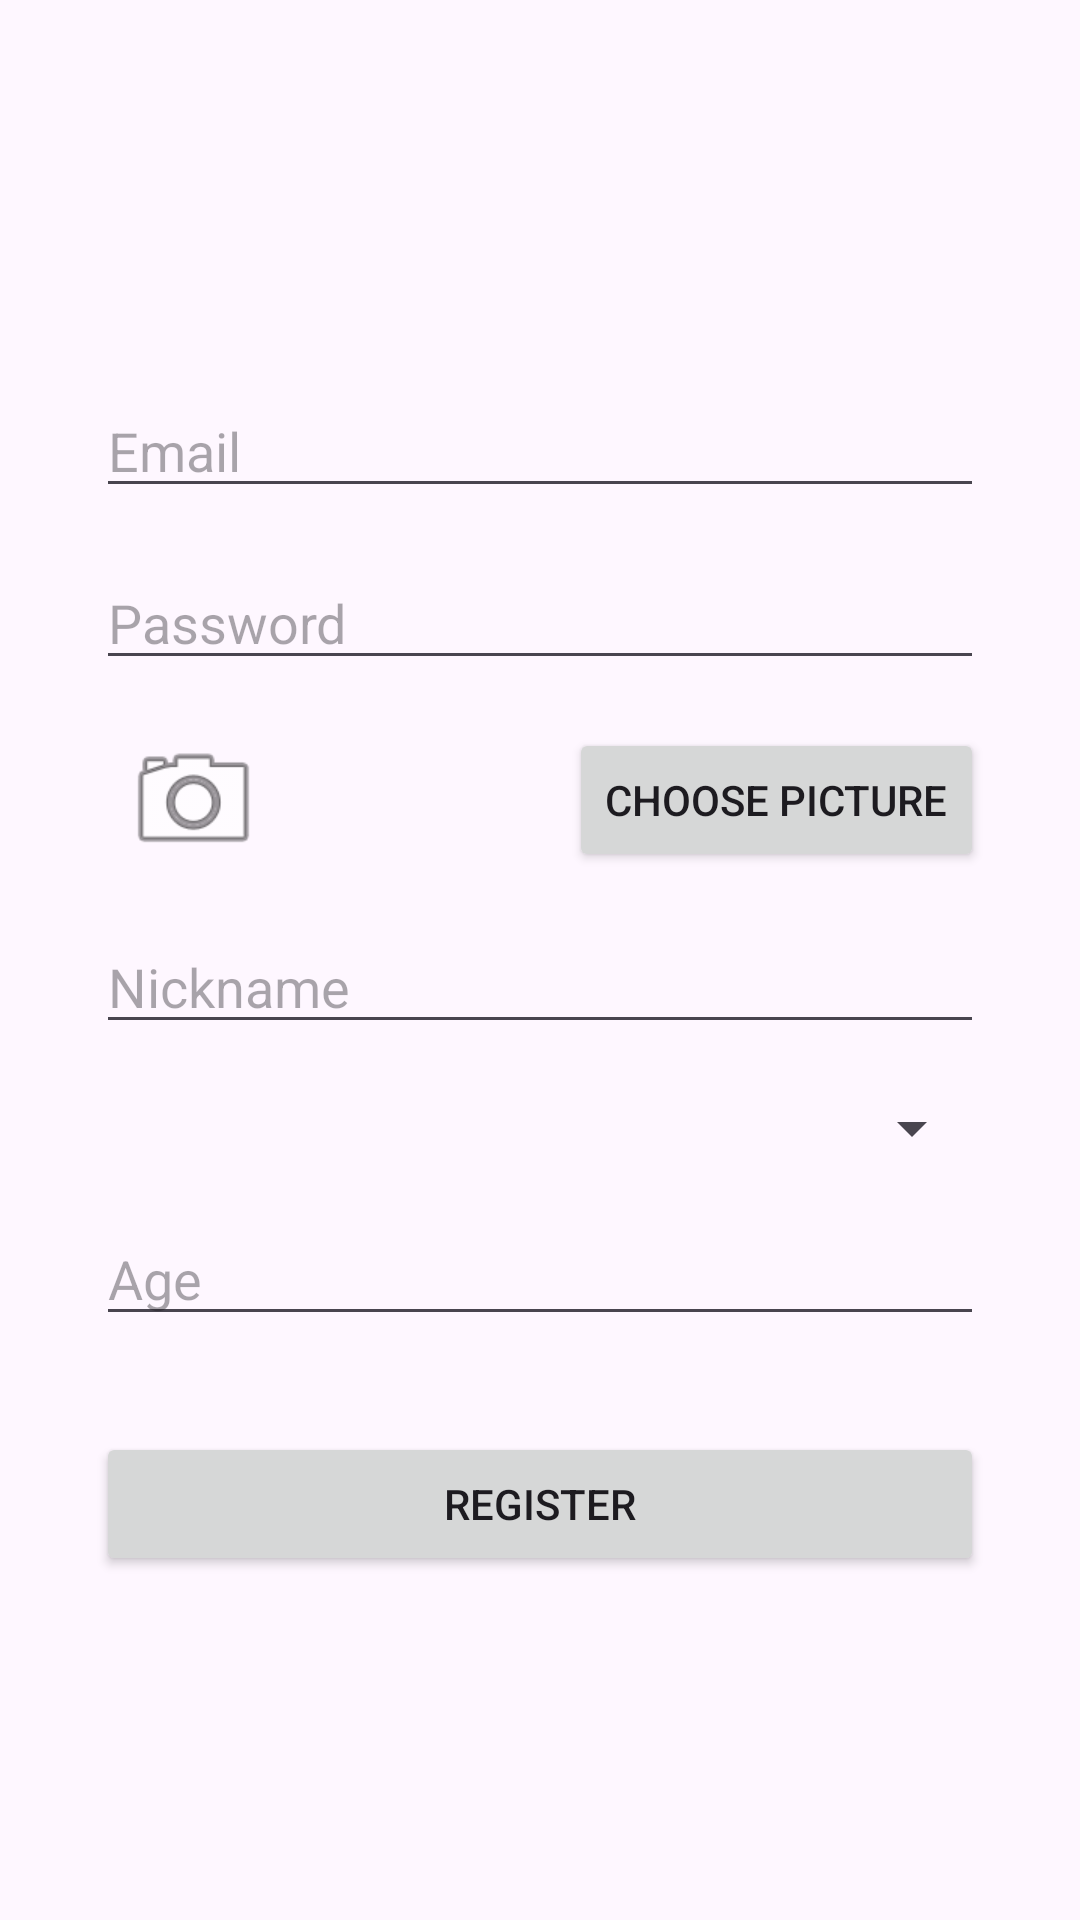

Icon bounding boxes for this 1080x1920 phone screenshot, format (x1, y1, x2, y2):
camera: (138, 753, 249, 842)
